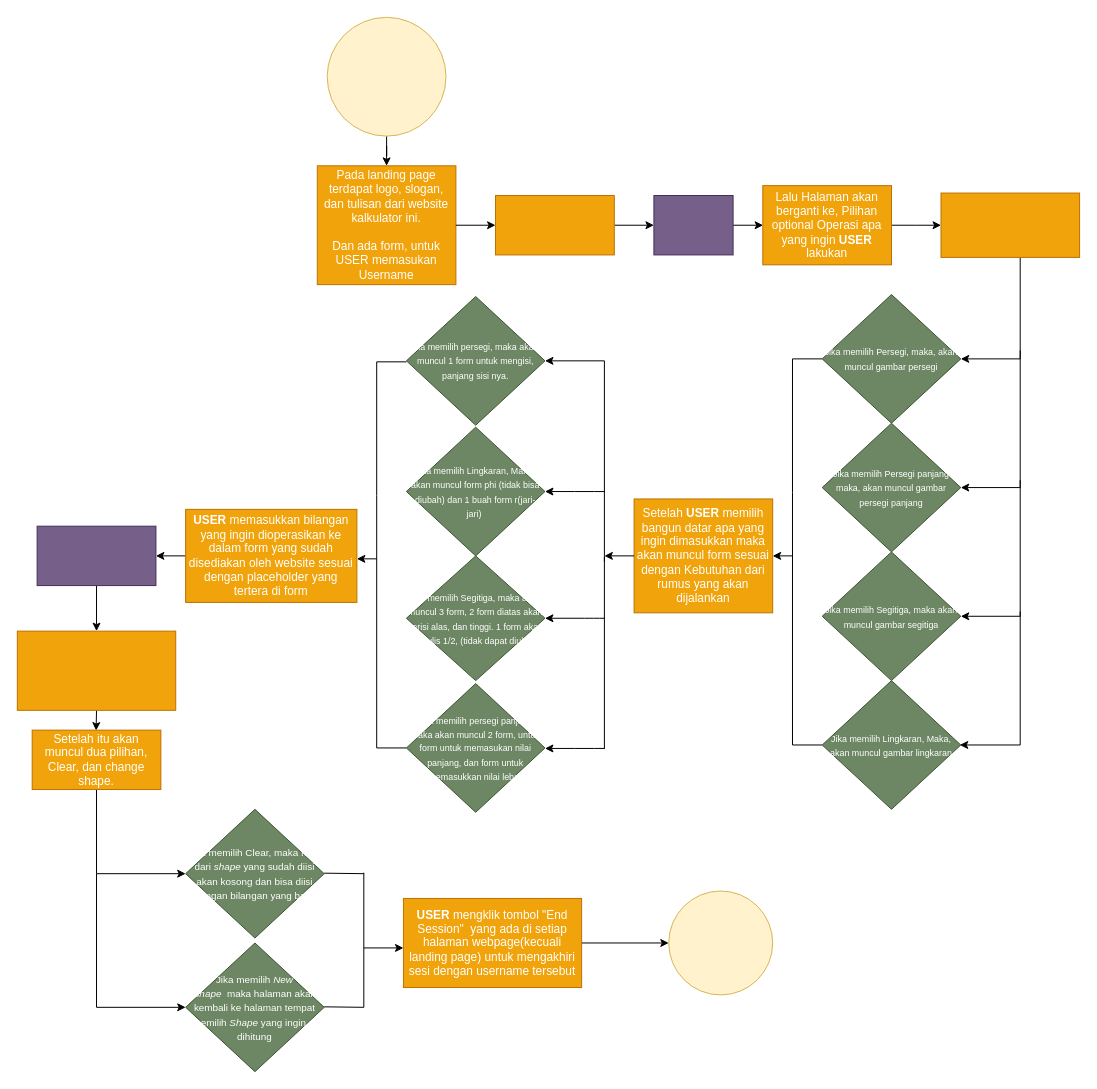
This 1097x1089 diagram has some shape labels left out. The centre of each missing label's shape, as x and y in pixels:
BUKA WEBSITE: point 386,76
Hasil Perhitungan kemudian akan tertera pada Gambar dari bangun datar tersebut: point 96,670
Kembali Ke Landing Page: point 720,942
Klik, "Hitung!": point 96,555
Klik, "OK": point 693,225
Lalu USER memilih Operasi Penghitungan bangun datar yang ingin Dilakukan: point 1010,224
Setelah USER memasukkan username nya: point 554,225
